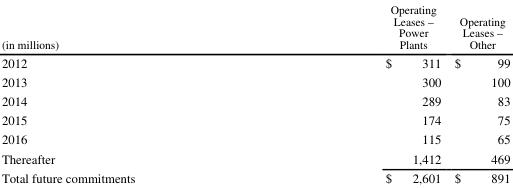table: (0, 1, 509, 185)
table column: (0, 1, 259, 185), (259, 1, 447, 185), (447, 1, 509, 185)
table column header: (0, 1, 509, 52)
table row: (0, 1, 509, 52), (0, 128, 509, 148), (0, 52, 509, 71), (0, 71, 509, 90), (0, 90, 509, 109), (0, 109, 509, 128), (0, 148, 509, 167), (0, 167, 509, 185)
